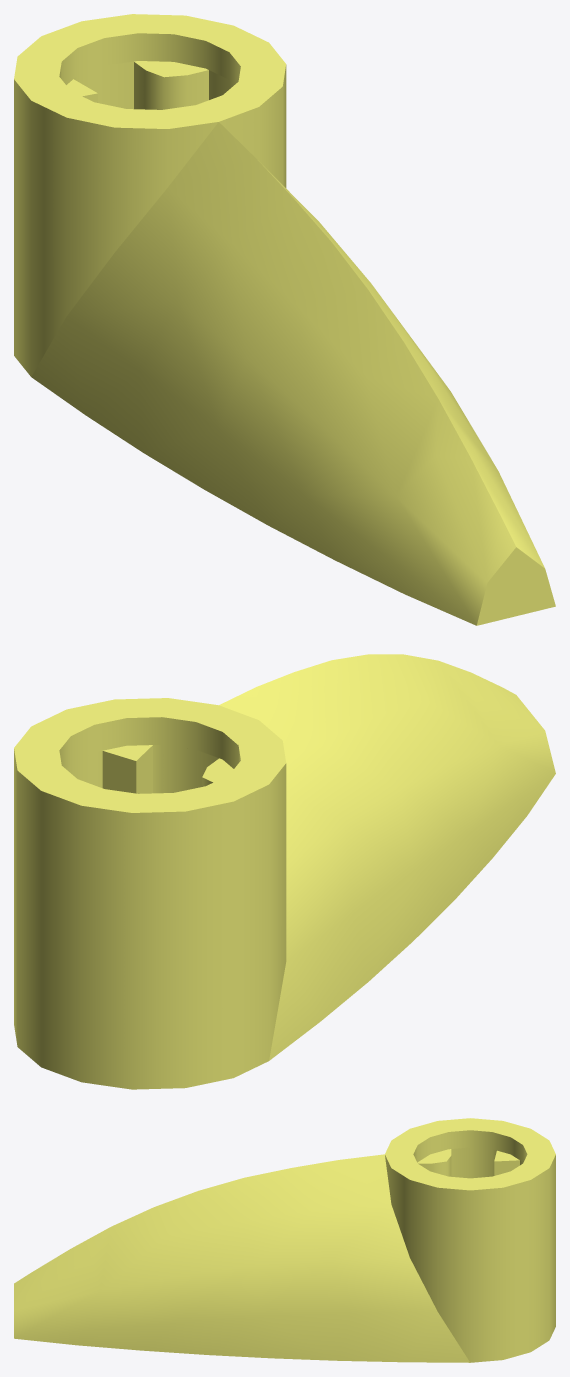
The picture shows the model from 3 angles, top to bottom: view 1: azimuth 30°, elevation 25°; view 2: azimuth 150°, elevation 25°; view 3: azimuth 270°, elevation 25°; orthographic projection. The views are drawn at different scales.
Parts seen in each view (by area): view 1: 48267.dat; view 2: 48267.dat; view 3: 48267.dat.
Part boxes in pixels (x1,y1,x2,y2): 48267.dat: (14,14,555,625); 48267.dat: (14,654,555,1089); 48267.dat: (14,1118,555,1362).
Size of the model in its own units: 0.0072 by 0.008 by 0.0228.
